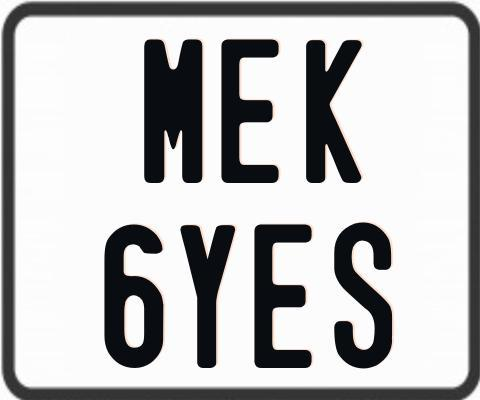6: (101, 222, 166, 369)
E: (218, 37, 280, 186), (253, 221, 311, 368)
K: (304, 38, 362, 181)
M: (141, 38, 202, 183)
S: (334, 222, 397, 374)
Y: (178, 223, 233, 372)
